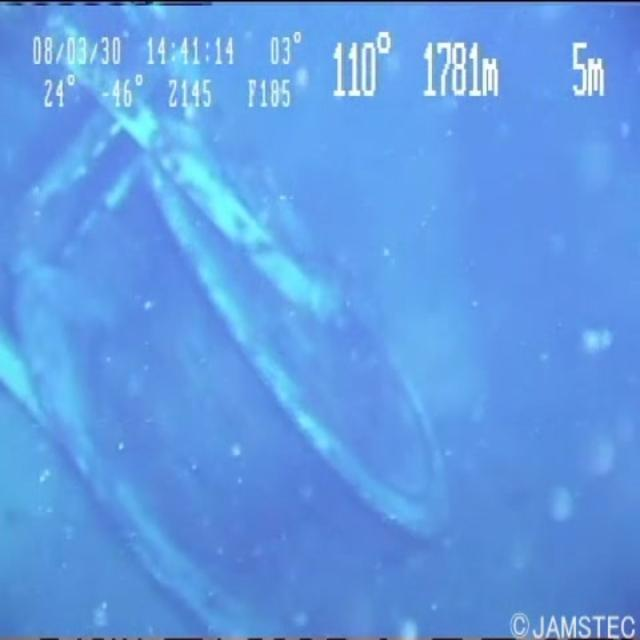Metal: (0, 12, 465, 626)
